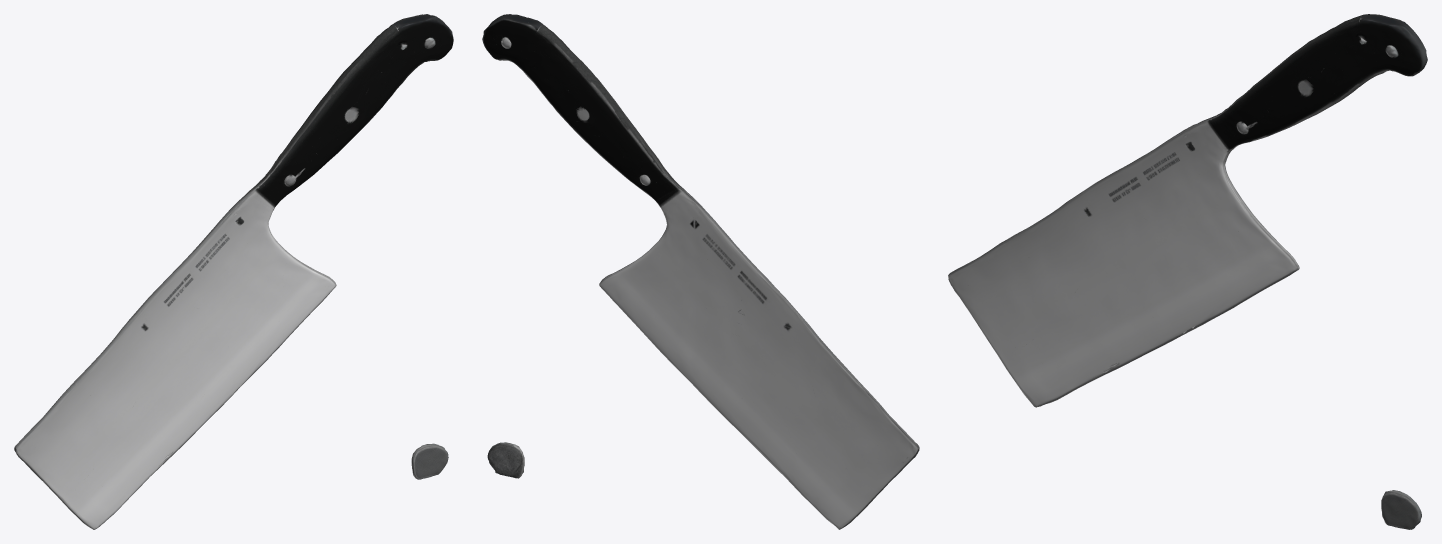
File: Meshy_AI_Cleaver_1006183722_texture.fbx
The picture shows the model from 3 angles, left to right: view 1: azimuth 30°, elevation 25°; view 2: azimuth 150°, elevation 25°; view 3: azimuth 330°, elevation 25°; orthographic projection. The views are drawn at different scales.
Parts seen in each view (by area): view 1: Mesh_0; view 2: Mesh_0; view 3: Mesh_0.
Part boxes in pixels (x1,y1,x2,y2): Mesh_0: [14, 14, 453, 529]; Mesh_0: [482, 14, 919, 529]; Mesh_0: [948, 14, 1427, 529].
Size of the model in its own units: 99.58 by 100 by 4.45.
Materials: 1 (1 with a texture image).
